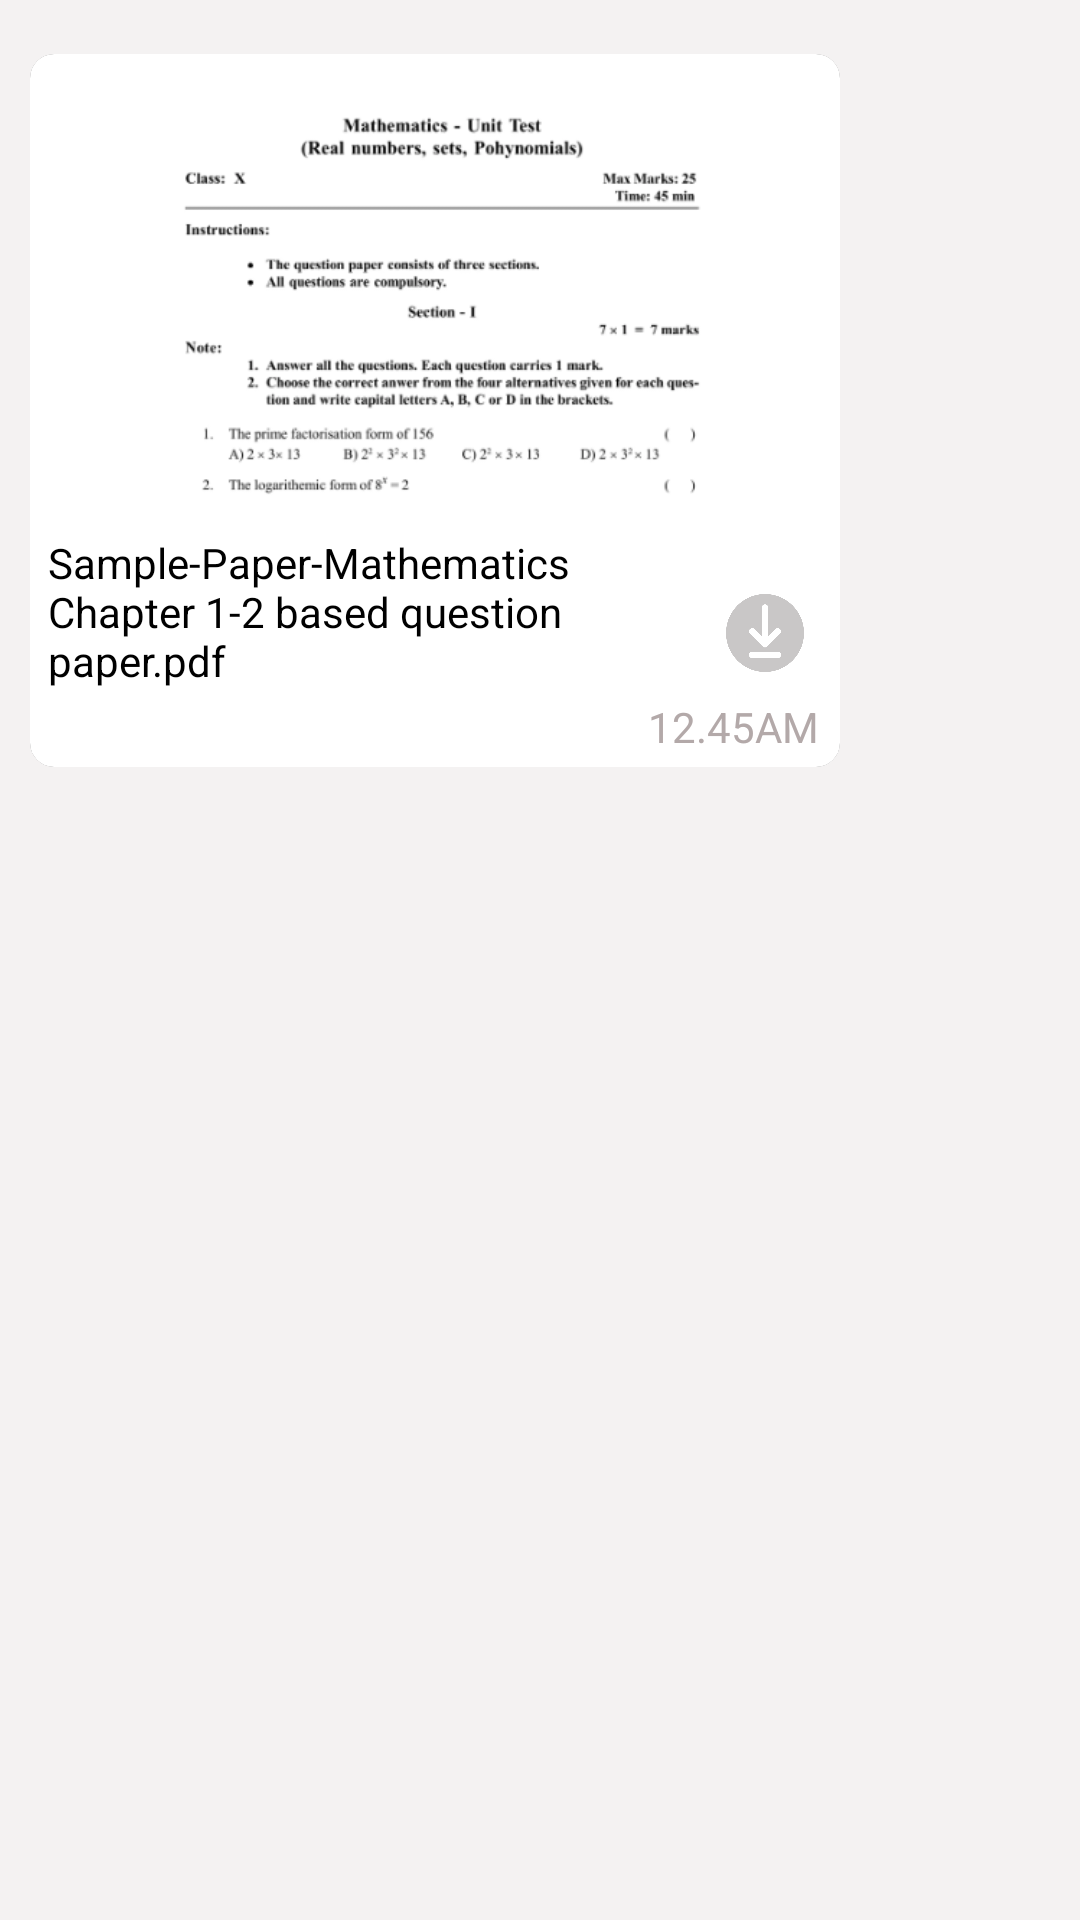

Point at icon controls on the screen. Image size 1080w x 1920h, points as point (x, y).
downloading: point (765, 633)
